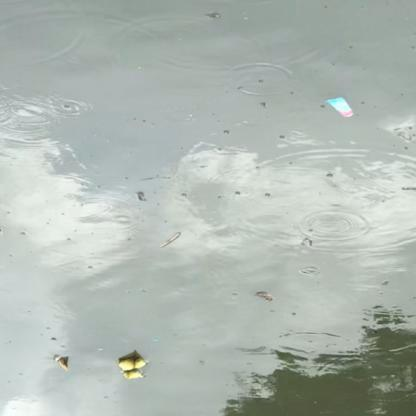Trash: (116, 353, 151, 385), (324, 94, 353, 119)
